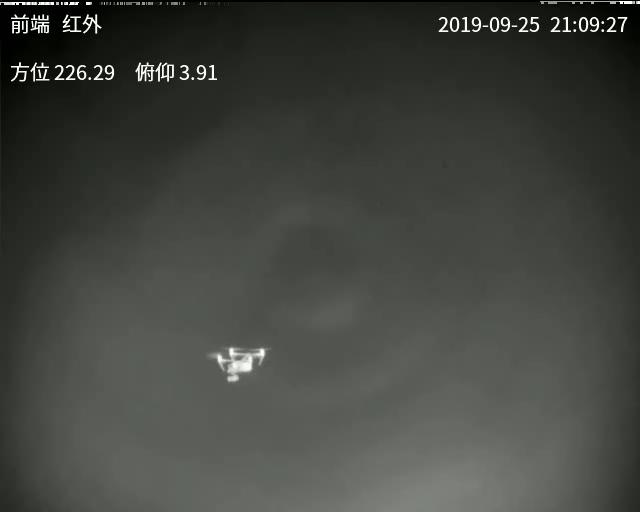uav: (215, 346, 271, 387)
